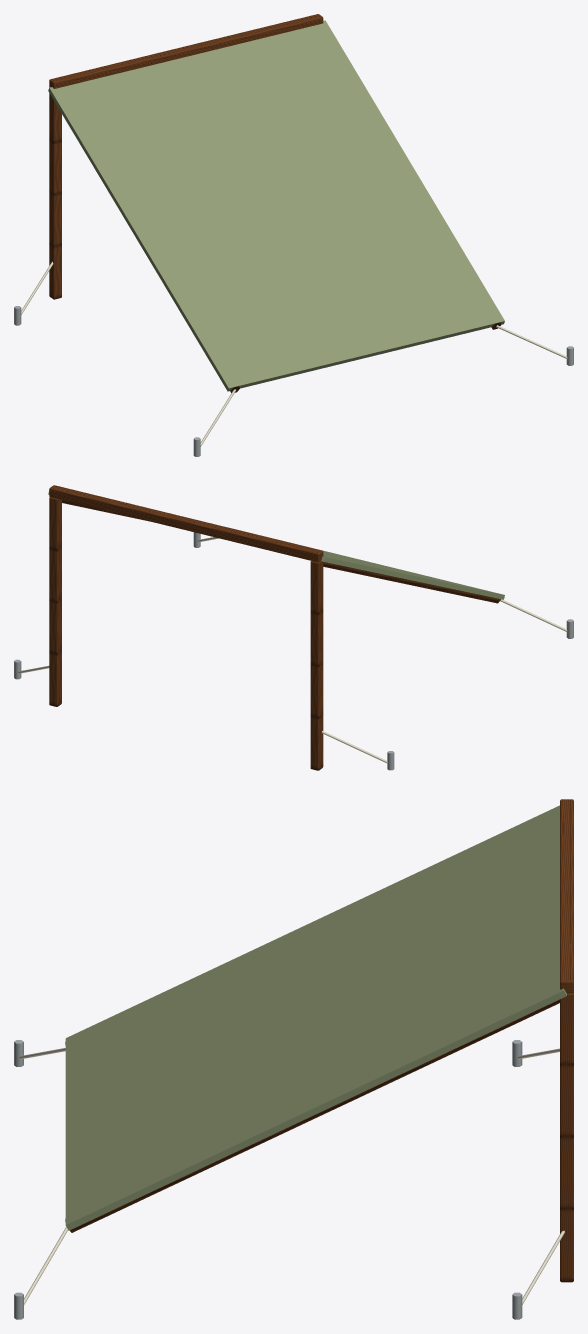
The model's file is wilderness-survival-camp-lean-to-shelter-e96349eb__21944.glb.
3 renders of one model, top to bottom at view 1: azimuth 30°, elevation 25°; view 2: azimuth 150°, elevation 25°; view 3: azimuth 270°, elevation 25°, orthographic. The views are drawn at different scales.
Visible parts, largest first — view 1: lean-to-shelter; view 2: lean-to-shelter; view 3: lean-to-shelter.
Boxes of the visible parts, left/top/right/bottom form: lean-to-shelter: left=14, top=14, right=573, bottom=456; lean-to-shelter: left=14, top=485, right=573, bottom=770; lean-to-shelter: left=14, top=799, right=573, bottom=1319.
Size of the model in its own units: 3.04 by 1.67 by 2.81.
Materials: 4 (1 with a texture image).
